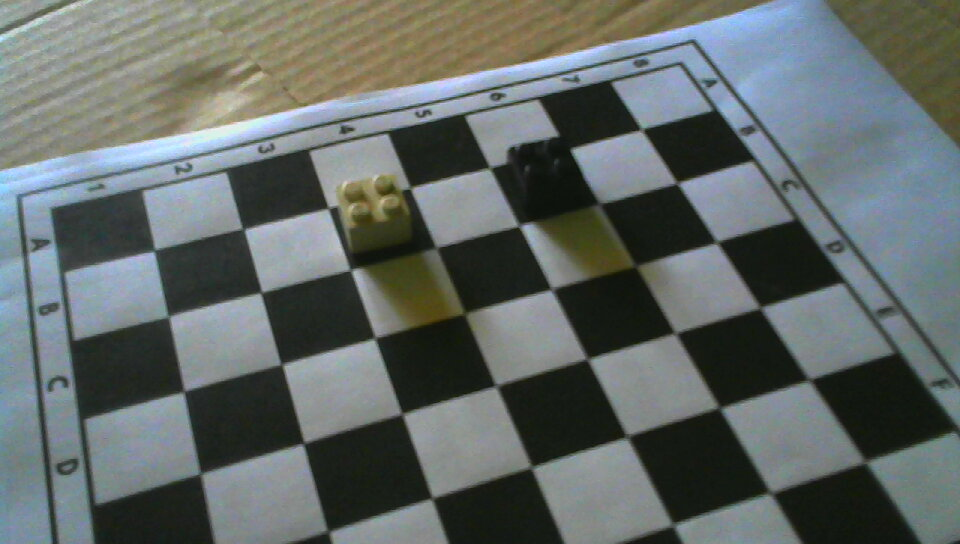bp: (507, 137, 580, 213)
wp: (332, 172, 410, 250)
